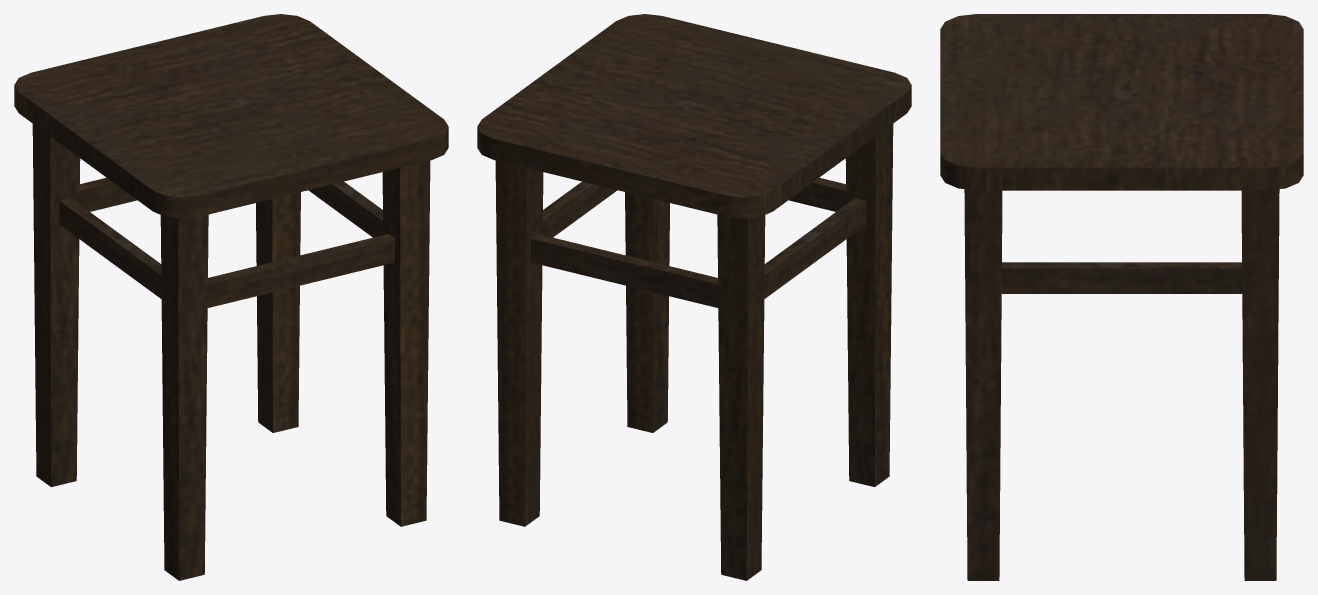
Rendered from chair_mp_2_1.obj.
3 renders of one model, left to right at view 1: azimuth 30°, elevation 25°; view 2: azimuth 150°, elevation 25°; view 3: azimuth 270°, elevation 25°, orthographic. The views are drawn at different scales.
Parts seen in each view (by area): view 1: chair_mp_2_1; view 2: chair_mp_2_1; view 3: chair_mp_2_1.
Part boxes in pixels (box(x1,y1,x2,y2)): chair_mp_2_1: box(14, 14, 448, 580); chair_mp_2_1: box(477, 14, 911, 580); chair_mp_2_1: box(940, 14, 1303, 580).
Size of the model in its own units: 0.4607 by 0.594 by 0.4607.
